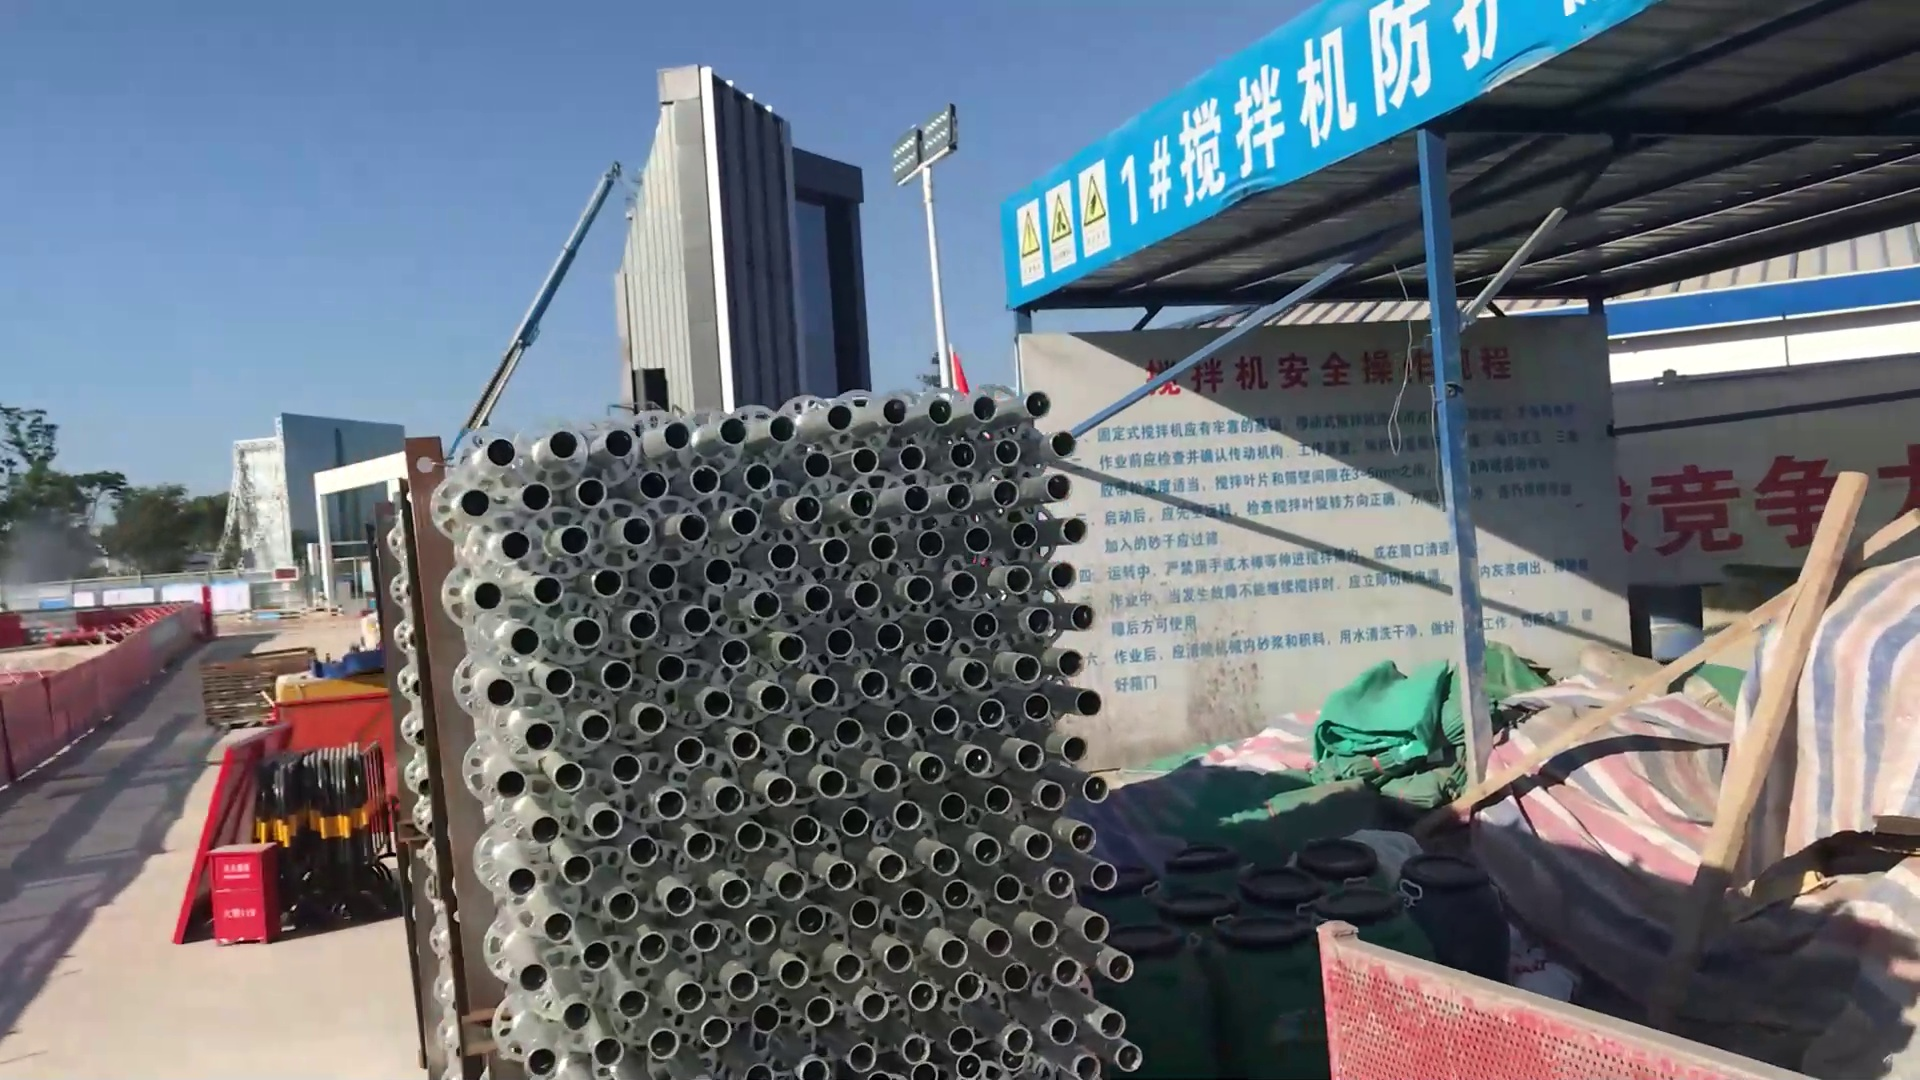fence: (1319, 916, 1842, 1080), (265, 745, 398, 926)
scaffold: (442, 377, 1143, 1080)
